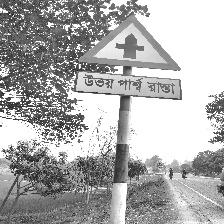Crossroad: (75, 13, 184, 101)
